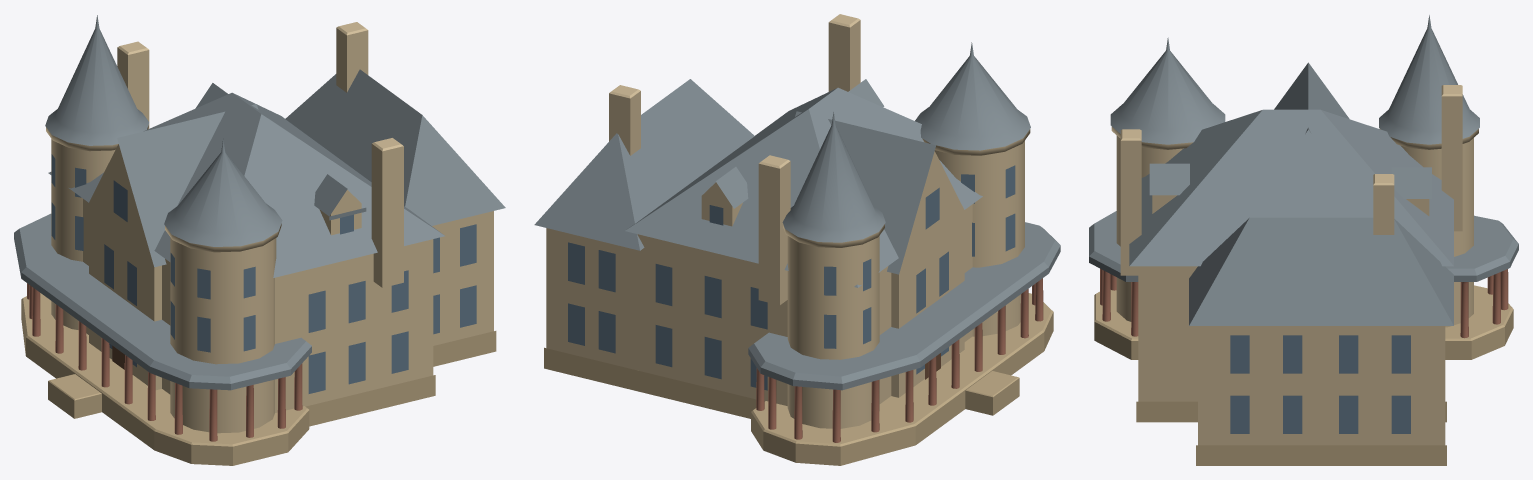
Rendered from ric-maymont-mansion.glb.
3 views of the same model, side by side, from view 1: azimuth 30°, elevation 25°; view 2: azimuth 150°, elevation 25°; view 3: azimuth 270°, elevation 25° (orthographic).
Visible parts, largest first — view 1: Maymont Mansion; view 2: Maymont Mansion; view 3: Maymont Mansion.
Boxes of the visible parts, x1,y1,x2,y2 form: Maymont Mansion: (14, 15, 505, 465); Maymont Mansion: (534, 14, 1060, 465); Maymont Mansion: (1089, 15, 1518, 465).
Size of the model in its own units: 25.5 by 19.9 by 24.5.
